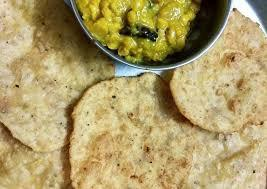Poori: (6, 3, 263, 189)
